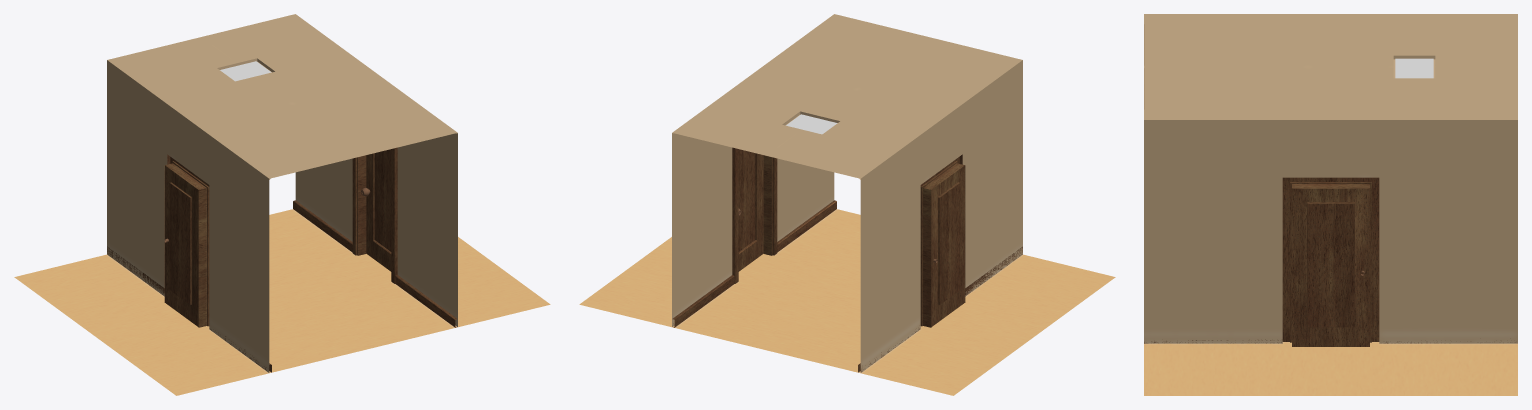
Rendered from Stair_Hall_Base.fbx.
3 views of the same model, side by side, from view 1: azimuth 30°, elevation 25°; view 2: azimuth 150°, elevation 25°; view 3: azimuth 270°, elevation 25° (orthographic). The views are drawn at different scales.
Visible parts, largest first — view 1: Stair_Hall; view 2: Stair_Hall; view 3: Stair_Hall.
Part boxes in pixels (<box>): Stair_Hall: <box>14,14,550,395</box>; Stair_Hall: <box>579,14,1115,395</box>; Stair_Hall: <box>1144,14,1517,395</box>.
Bounding box in the file's own units: 403 × 200 × 303.
